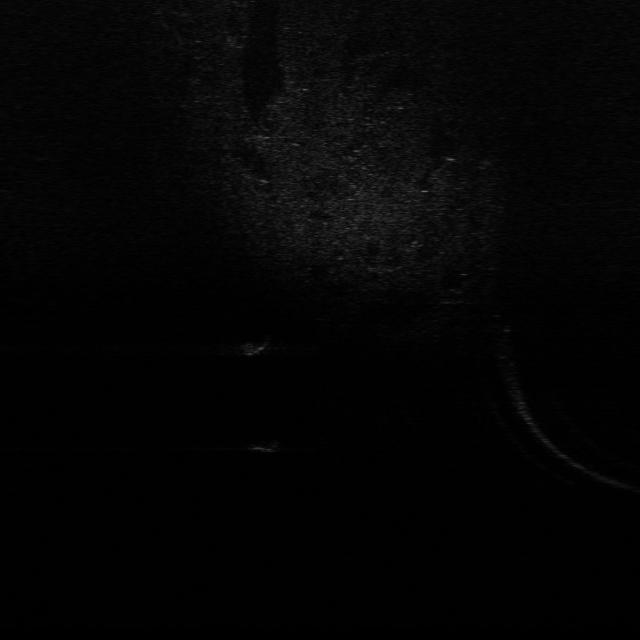cube: (247, 431, 291, 459)
square cage: (229, 332, 277, 358)
